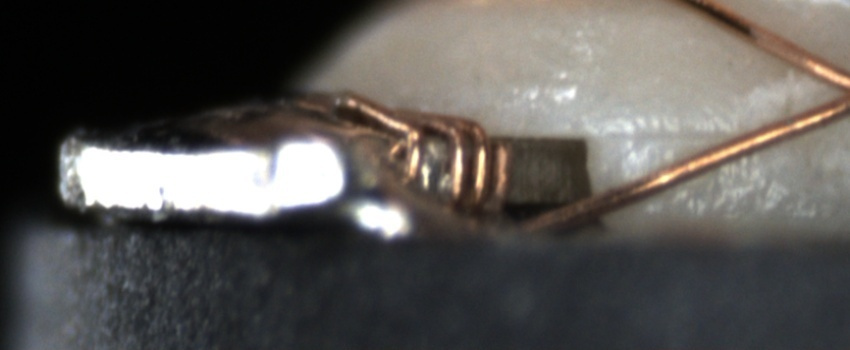CL: (805, 51, 850, 127)
DL: (606, 106, 754, 166)
TE: (313, 83, 519, 214)
